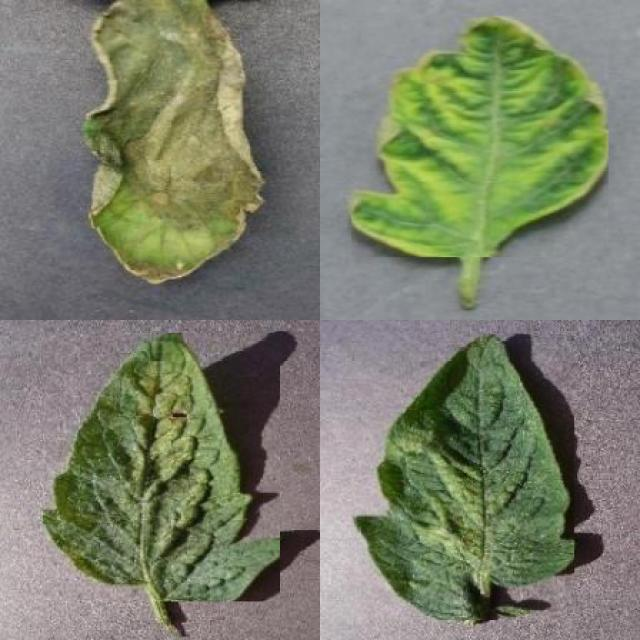Late Blight: (81, 0, 266, 287)
Spider Mites: (43, 334, 280, 602), (355, 334, 575, 620)
Yellow Leaf Curl Virus: (352, 16, 608, 257)
